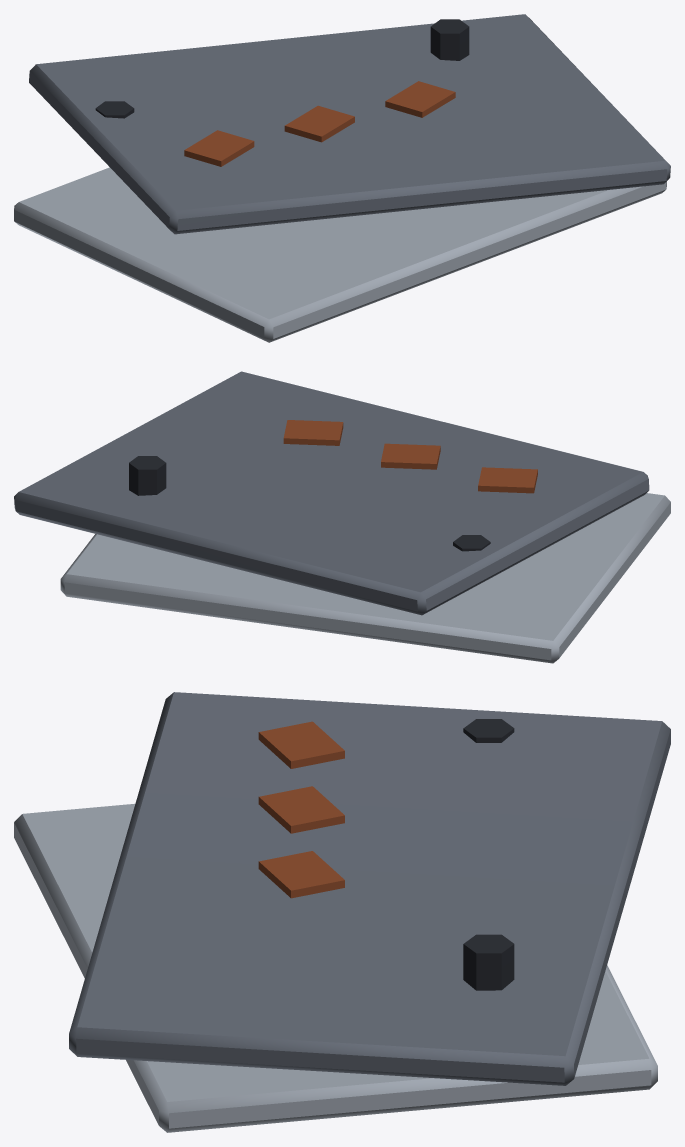
File: item_sheet.glb
3 renders of one model, top to bottom at view 1: azimuth 30°, elevation 25°; view 2: azimuth 150°, elevation 25°; view 3: azimuth 270°, elevation 25°, orthographic. The views are drawn at different scales.
Visible parts, largest first — view 1: item_sheet, item_sheet_detail; view 2: item_sheet, item_sheet_detail; view 3: item_sheet, item_sheet_detail.
Part boxes in pixels (box(x1,y1,x2,y2)): item_sheet: box(14, 14, 670, 342); item_sheet_detail: box(184, 81, 455, 166); item_sheet: box(14, 371, 670, 663); item_sheet_detail: box(283, 420, 537, 493); item_sheet: box(14, 692, 670, 1132); item_sheet_detail: box(258, 721, 344, 898).
Bounding box in the file's own units: 0.4835 × 0.0905 × 0.3864.
